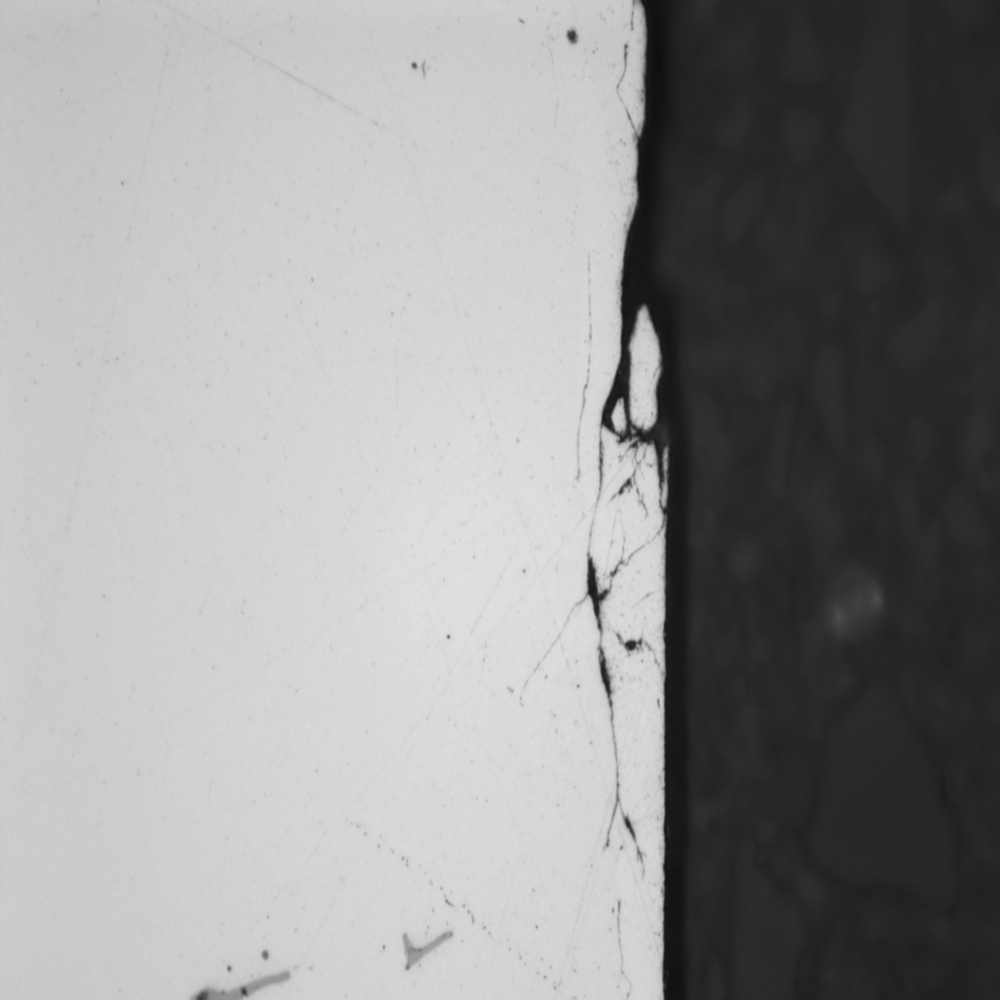crack: (575, 208, 676, 893)
